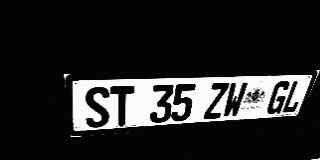3: (150, 84, 175, 124)
5: (170, 84, 196, 122)
G: (265, 81, 292, 115)
L: (280, 80, 308, 114)
S: (84, 86, 110, 128)
T: (110, 86, 134, 127)
W: (221, 82, 248, 118)
Z: (203, 83, 230, 119)
